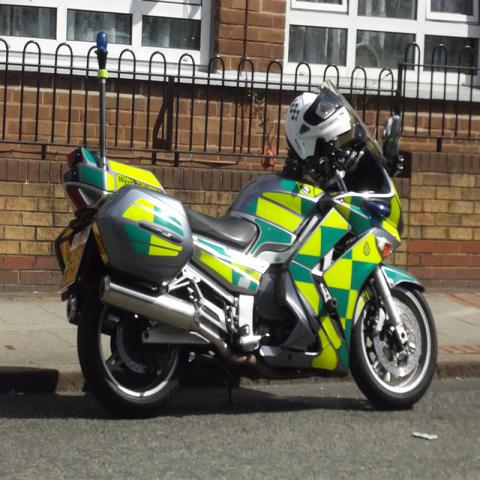motorcycle: (58, 82, 436, 416)
